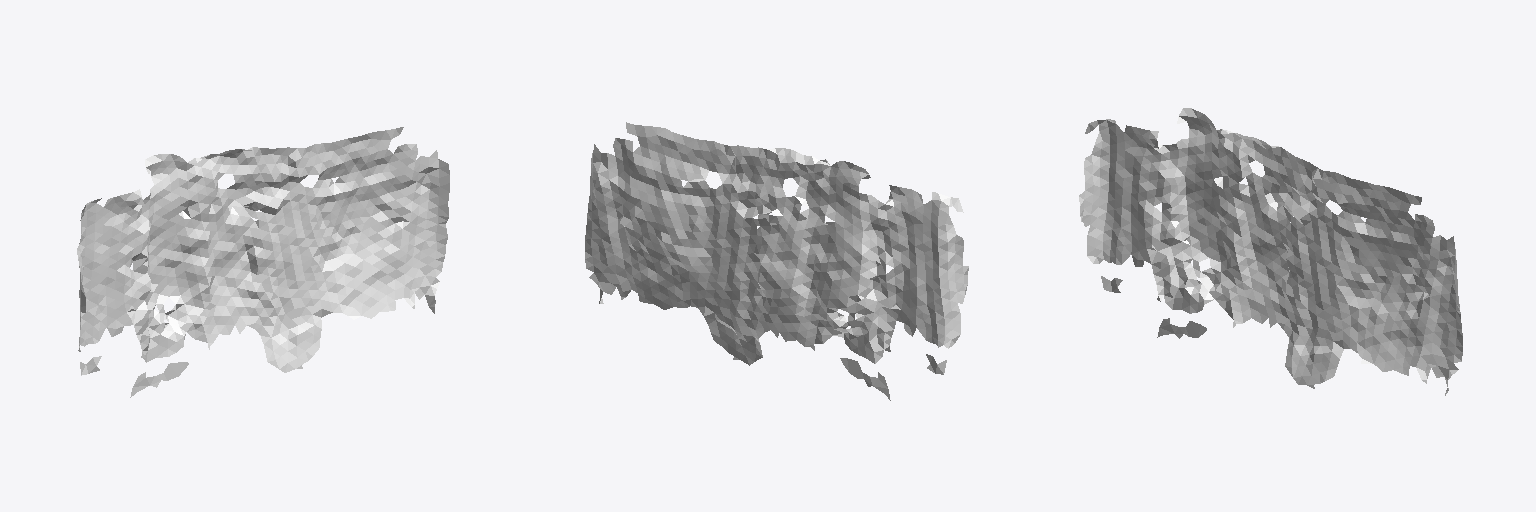
Rendered from tbz_sm_mesh_gen.obj.
3 views of the same model, side by side, from view 1: azimuth 30°, elevation 25°; view 2: azimuth 150°, elevation 25°; view 3: azimuth 330°, elevation 25° (orthographic).
Size of the model in its own units: 3.24 by 1.97 by 0.4406.